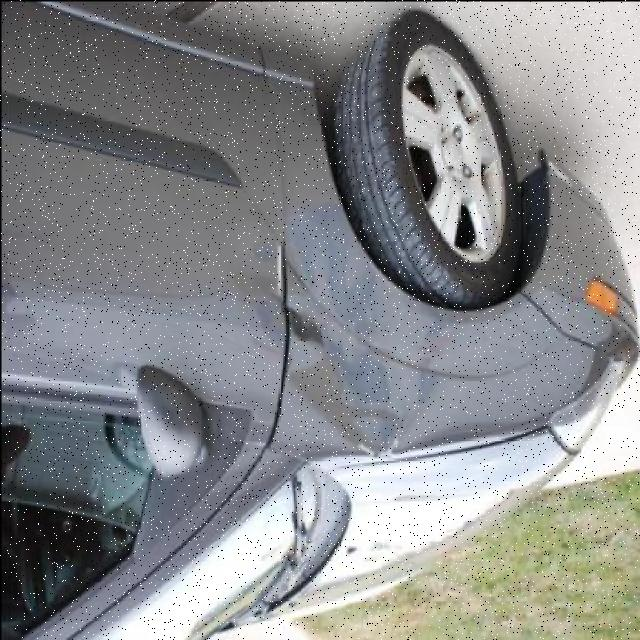damage: (284, 199, 462, 460)
